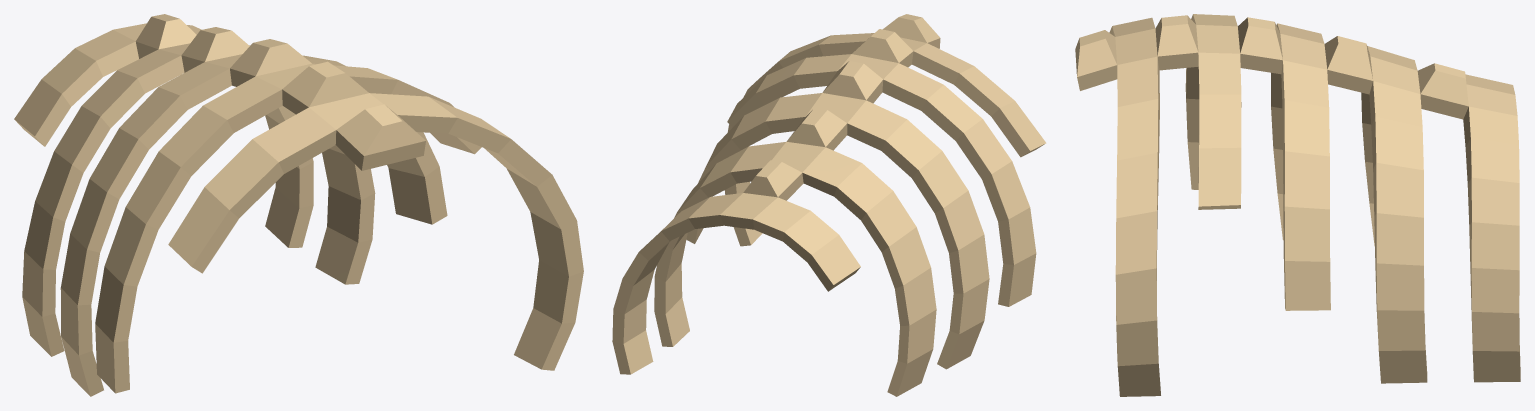
The model's file is Bone_Ribs_4__0.glb.
3 views of the same model, side by side, from view 1: azimuth 30°, elevation 25°; view 2: azimuth 150°, elevation 25°; view 3: azimuth 270°, elevation 25° (orthographic). The views are drawn at different scales.
Visible parts, largest first — view 1: Bone_Ribs_4__0; view 2: Bone_Ribs_4__0; view 3: Bone_Ribs_4__0.
Boxes of the visible parts, bbox=[...] form: Bone_Ribs_4__0: bbox=[14, 14, 583, 396]; Bone_Ribs_4__0: bbox=[612, 14, 1046, 396]; Bone_Ribs_4__0: bbox=[1075, 14, 1520, 396].
Bounding box in the file's own units: 0.4082 × 0.3055 × 0.4109.
Materials: 1 (1 with a texture image).
